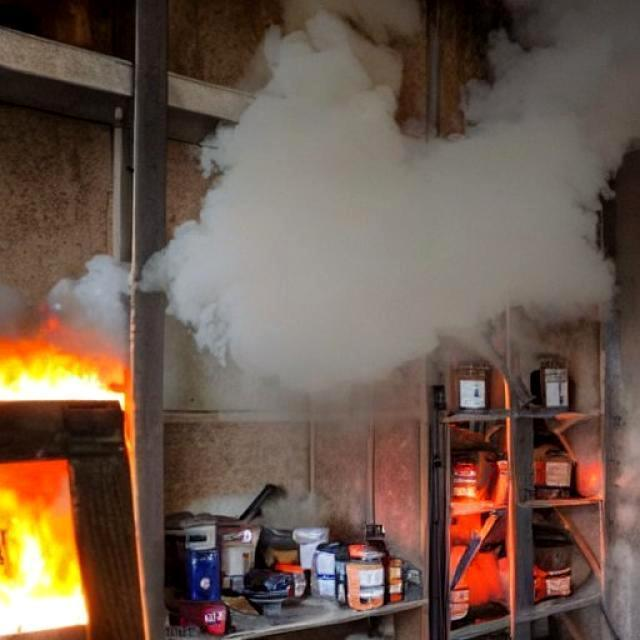Fire: (0, 496, 89, 633), (0, 341, 118, 411)
Smoke: (153, 0, 640, 435)
